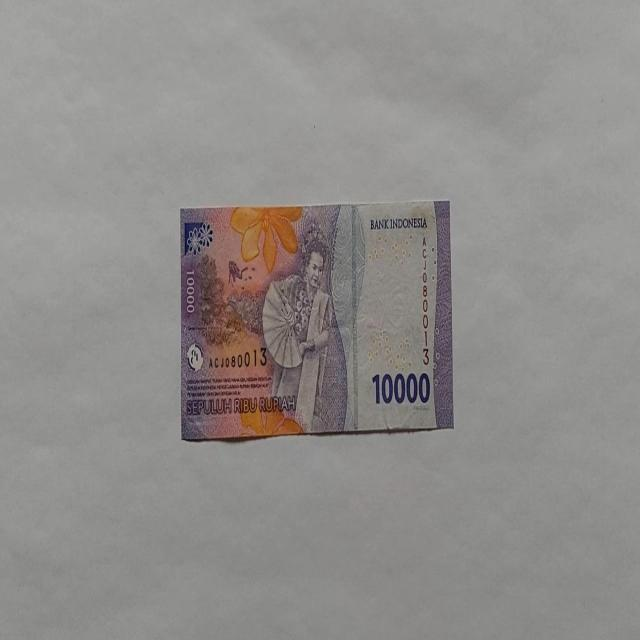Kertas: (179, 199, 453, 441), (371, 369, 431, 406)
